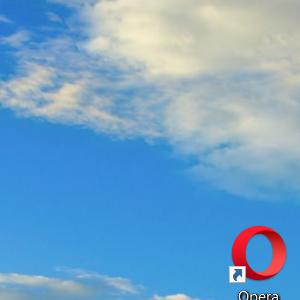opera: (228, 225, 287, 284)
